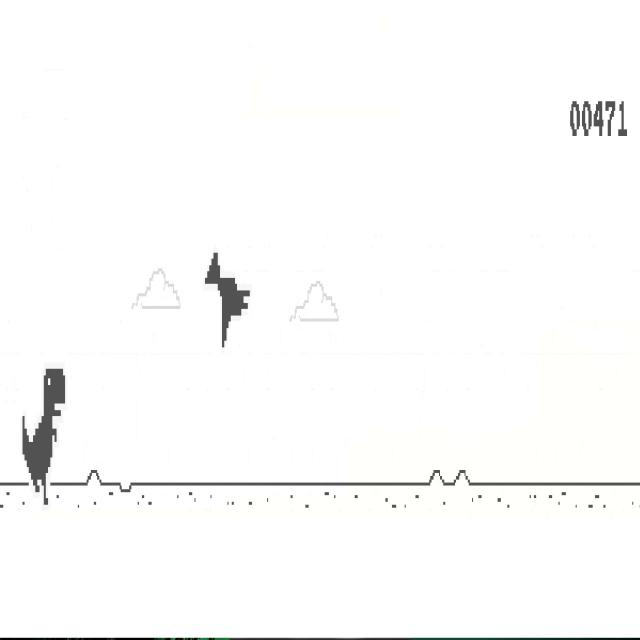dino: (22, 366, 66, 505)
ptero: (204, 250, 251, 350)
